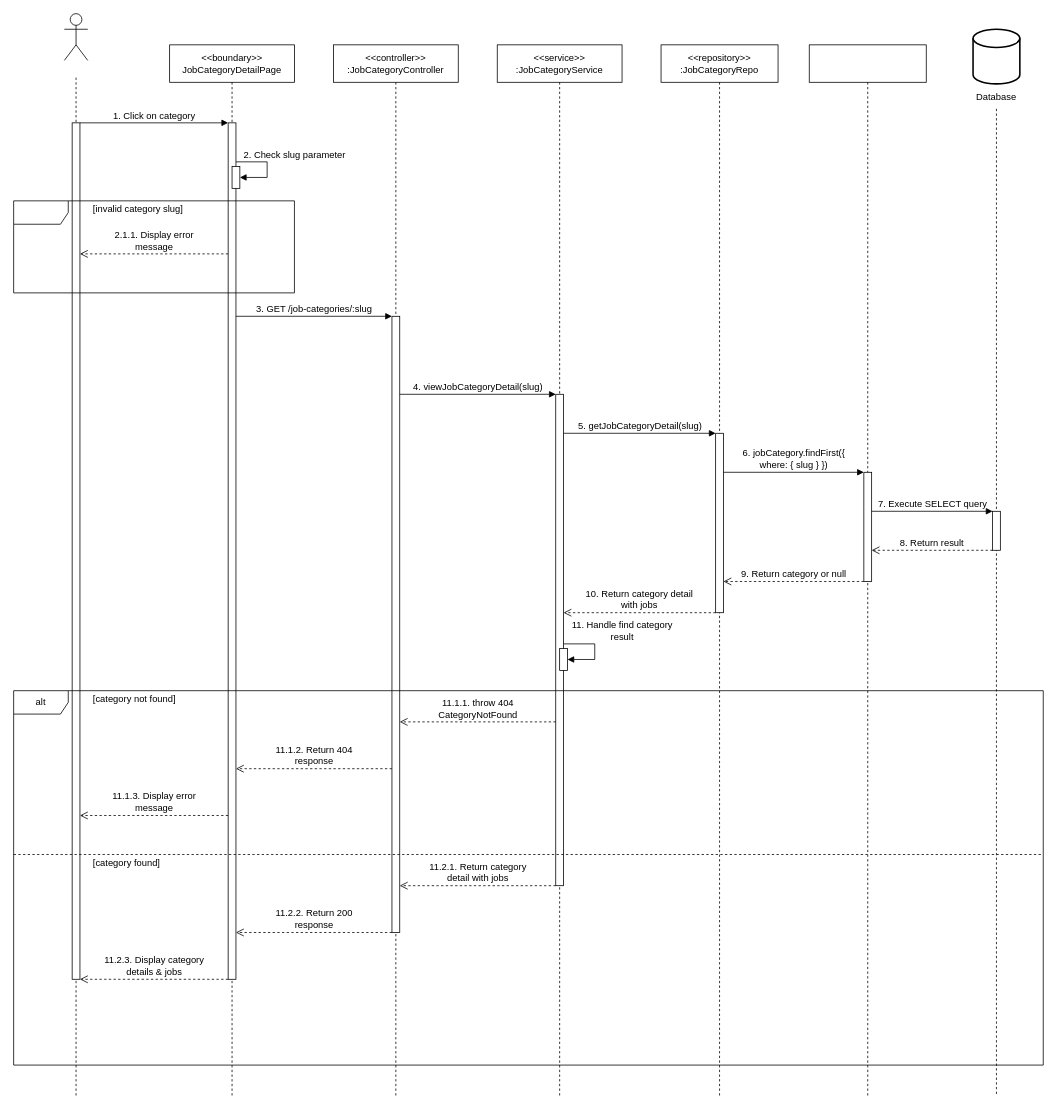
This 1058x1111 diagram has some shape labels left out. Here are the shapes that lost their labels. From the top down, the box of each, then its label:
(64, 13, 88, 60): Freelancer
(13, 200, 294, 293): opt
(808, 44, 926, 1096): <<service>> :PrismaService
